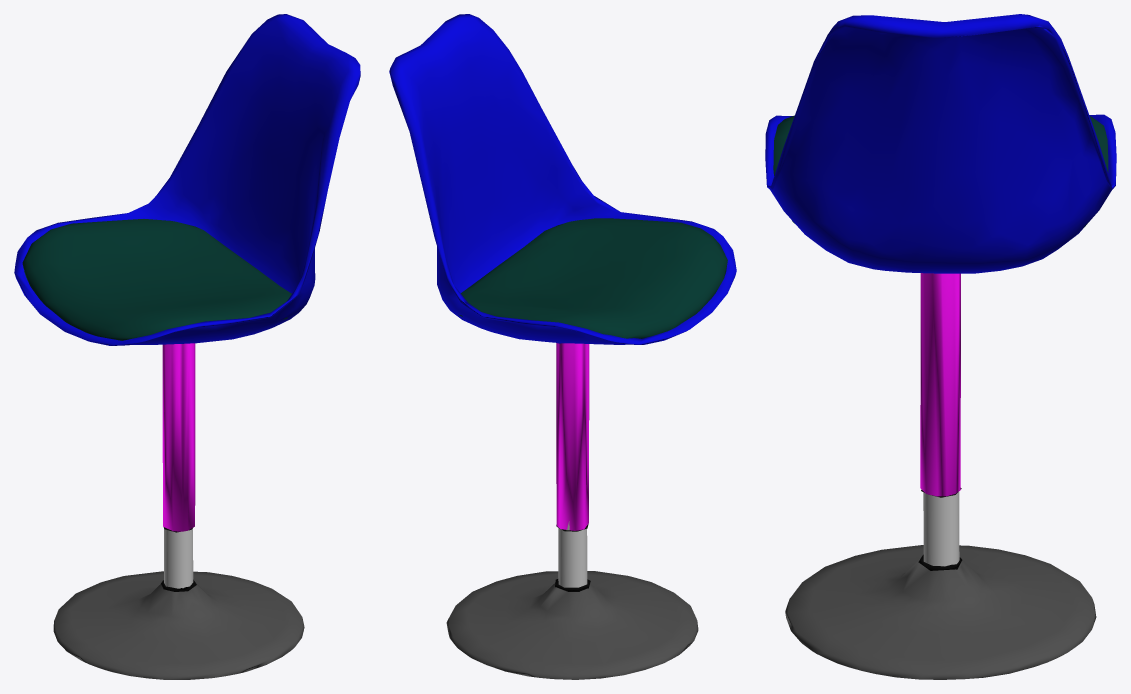
Rendered from SM_Bar_Chair.fbx.
3 views of the same model, side by side, from view 1: azimuth 30°, elevation 25°; view 2: azimuth 150°, elevation 25°; view 3: azimuth 270°, elevation 25° (orthographic). The views are drawn at different scales.
Parts seen in each view (by area): view 1: SM_Bar_Chair; view 2: SM_Bar_Chair; view 3: SM_Bar_Chair.
Part boxes in pixels (x1,y1,x2,y2): SM_Bar_Chair: (14, 14, 360, 679); SM_Bar_Chair: (389, 14, 736, 679); SM_Bar_Chair: (765, 14, 1116, 679).
Bounding box in the file's own units: 54.26 × 102 × 47.39.
